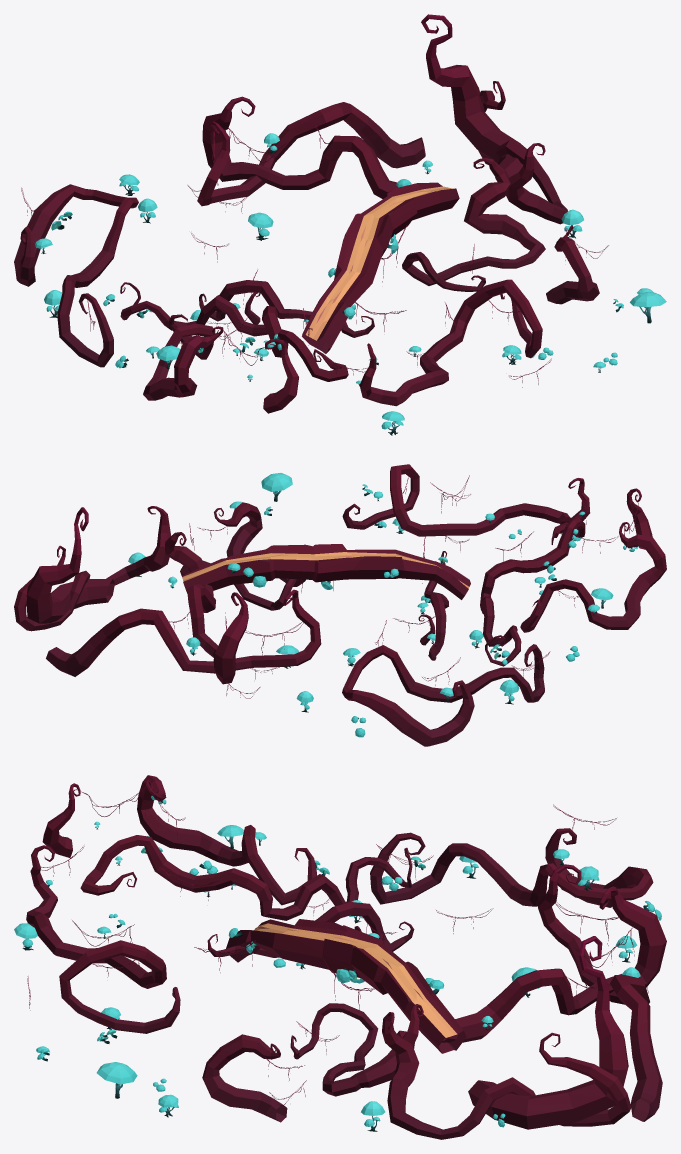
File: Roots.gltf
3 views of the same model, one above another, from view 1: azimuth 30°, elevation 25°; view 2: azimuth 150°, elevation 25°; view 3: azimuth 270°, elevation 25° (orthographic). The views are drawn at different scales.
Parts seen in each view (by area): view 1: Roots, Mushrooms, Vines; view 2: Roots, Mushrooms, Vines; view 3: Roots, Mushrooms, Vines.
Boxes of the visible parts, <box> form: Roots: <box>14,14,599,413</box>; Mushrooms: <box>35,133,666,435</box>; Vines: <box>21,126,608,387</box>; Roots: <box>14,464,666,746</box>; Mushrooms: <box>128,473,638,737</box>; Vines: <box>169,475,639,698</box>; Roots: <box>26,775,666,1139</box>; Mushrooms: <box>14,796,661,1131</box>; Vines: <box>27,787,648,1105</box>.
Size of the model in its own units: 200 by 64.88 by 197.
Materials: 1 (1 with a texture image).
